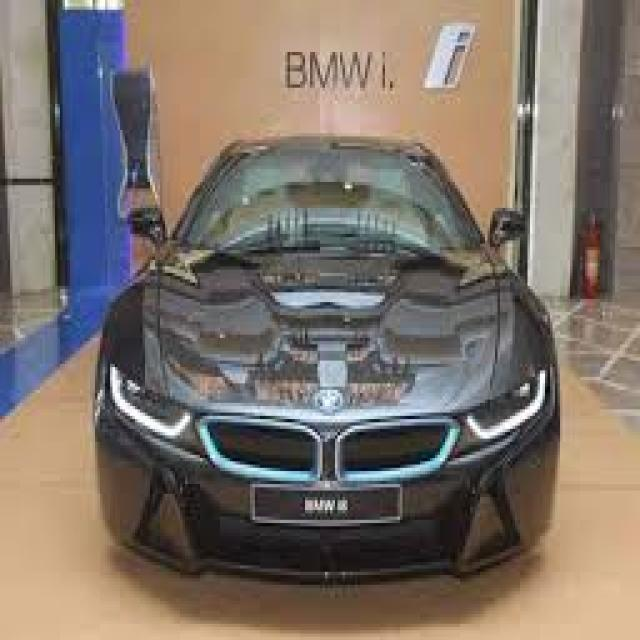car: (91, 130, 582, 590)
